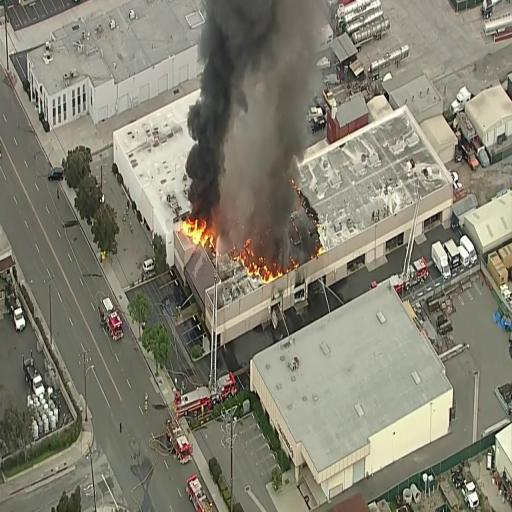fire: (183, 206, 218, 252)
smoke: (191, 0, 264, 201)
